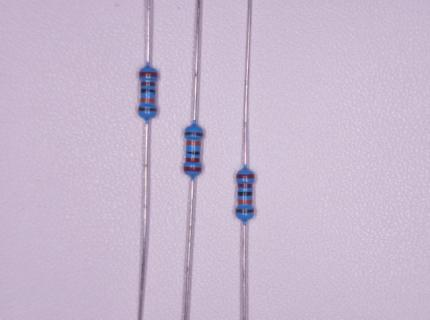Black band: (237, 191, 253, 197), (140, 89, 155, 94), (186, 151, 200, 155)
Brown band: (183, 131, 203, 136), (138, 107, 158, 112), (235, 208, 254, 213)
Orange band: (186, 140, 200, 146), (140, 98, 155, 103), (237, 200, 252, 205)
Red band: (235, 173, 255, 179), (138, 71, 157, 77), (184, 166, 202, 172), (237, 183, 253, 188), (186, 158, 200, 163), (140, 82, 155, 86)
